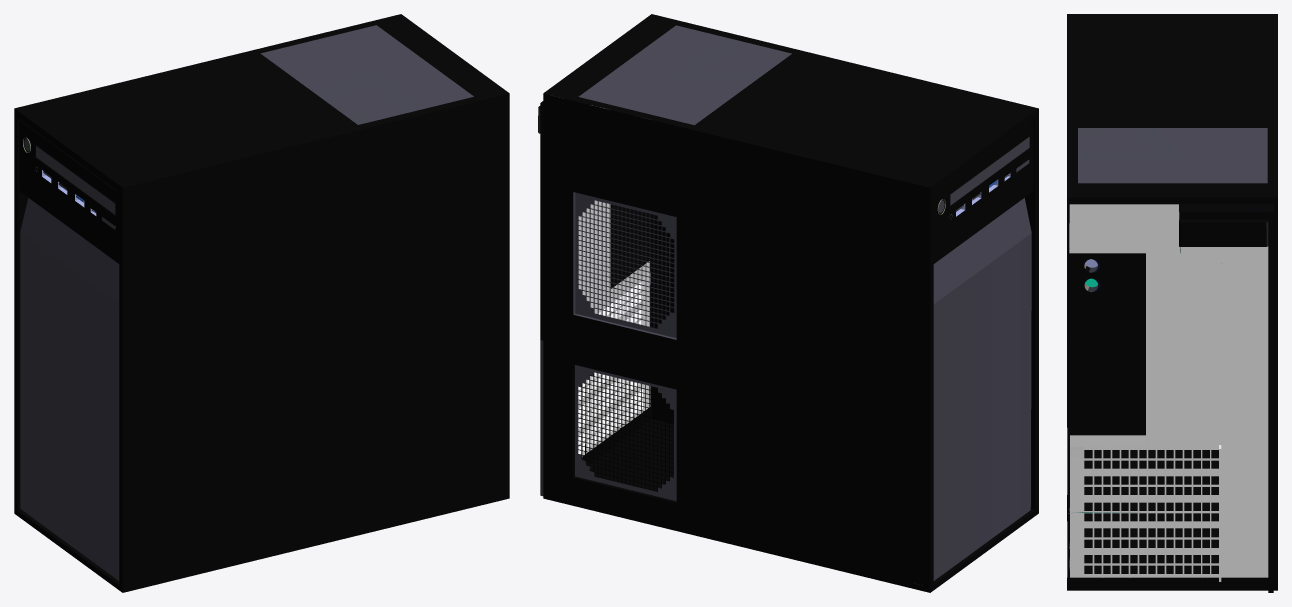
Rendered from PC_ValentinaH_46960371.fbx.
3 renders of one model, left to right at view 1: azimuth 30°, elevation 25°; view 2: azimuth 150°, elevation 25°; view 3: azimuth 270°, elevation 25°, orthographic. The views are drawn at different scales.
Visible parts, largest first — view 1: Gabinete.001; view 2: Gabinete.001; view 3: Gabinete.001.
Part boxes in pixels (left/top/right/bottom): Gabinete.001: left=14, top=14, right=509, bottom=592; Gabinete.001: left=538, top=14, right=1038, bottom=592; Gabinete.001: left=1067, top=14, right=1277, bottom=592.
Size of the model in its own units: 36 by 35.19 by 17.
2 materials, 2 textured.
